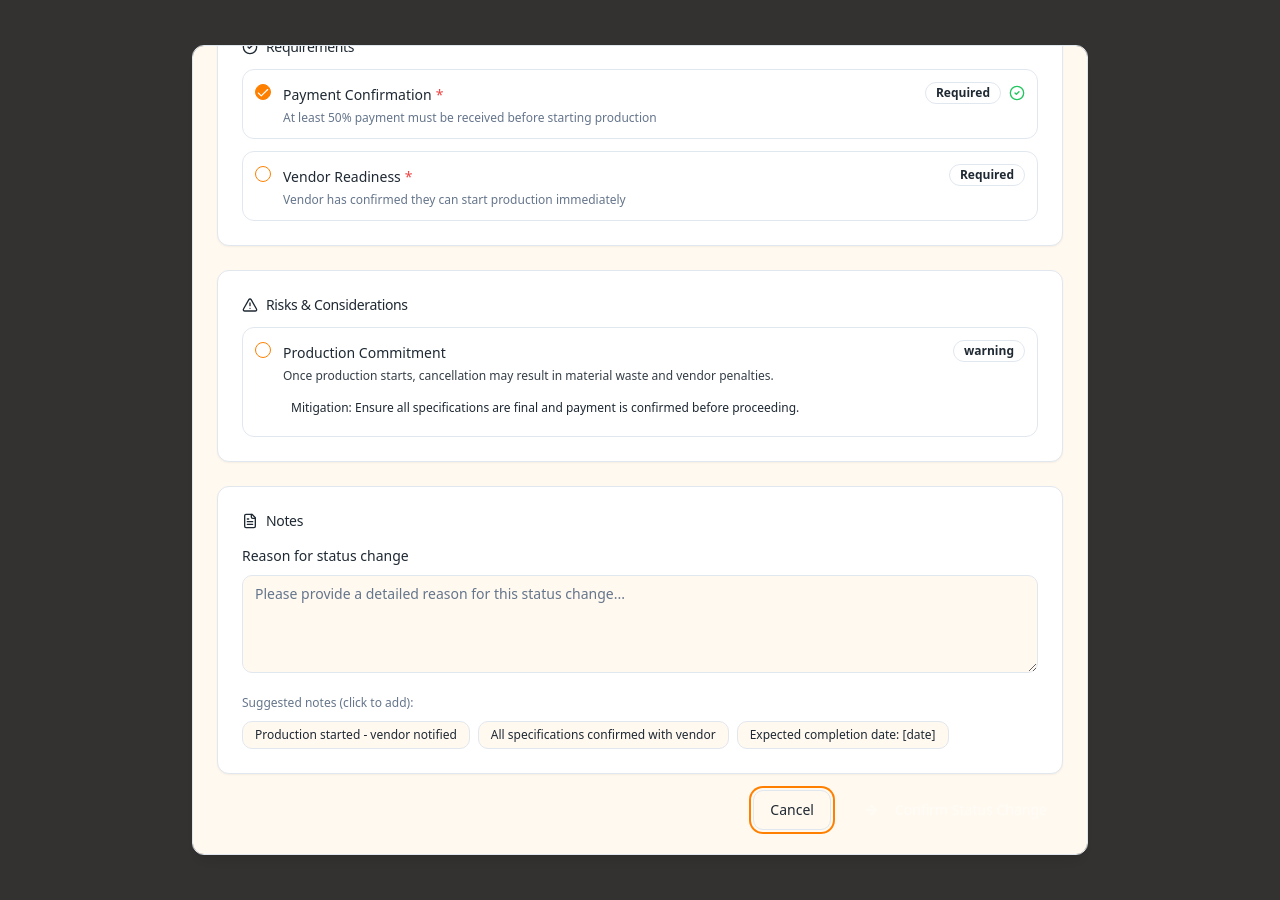
it: StatusChangeConfirmationDialog › adds suggested note to textarea when clicked
(page scrolled)
Step 1. Click the button "Production started - vendor notified" → (356, 735), box top-left (242, 721), bottom-right (470, 749)
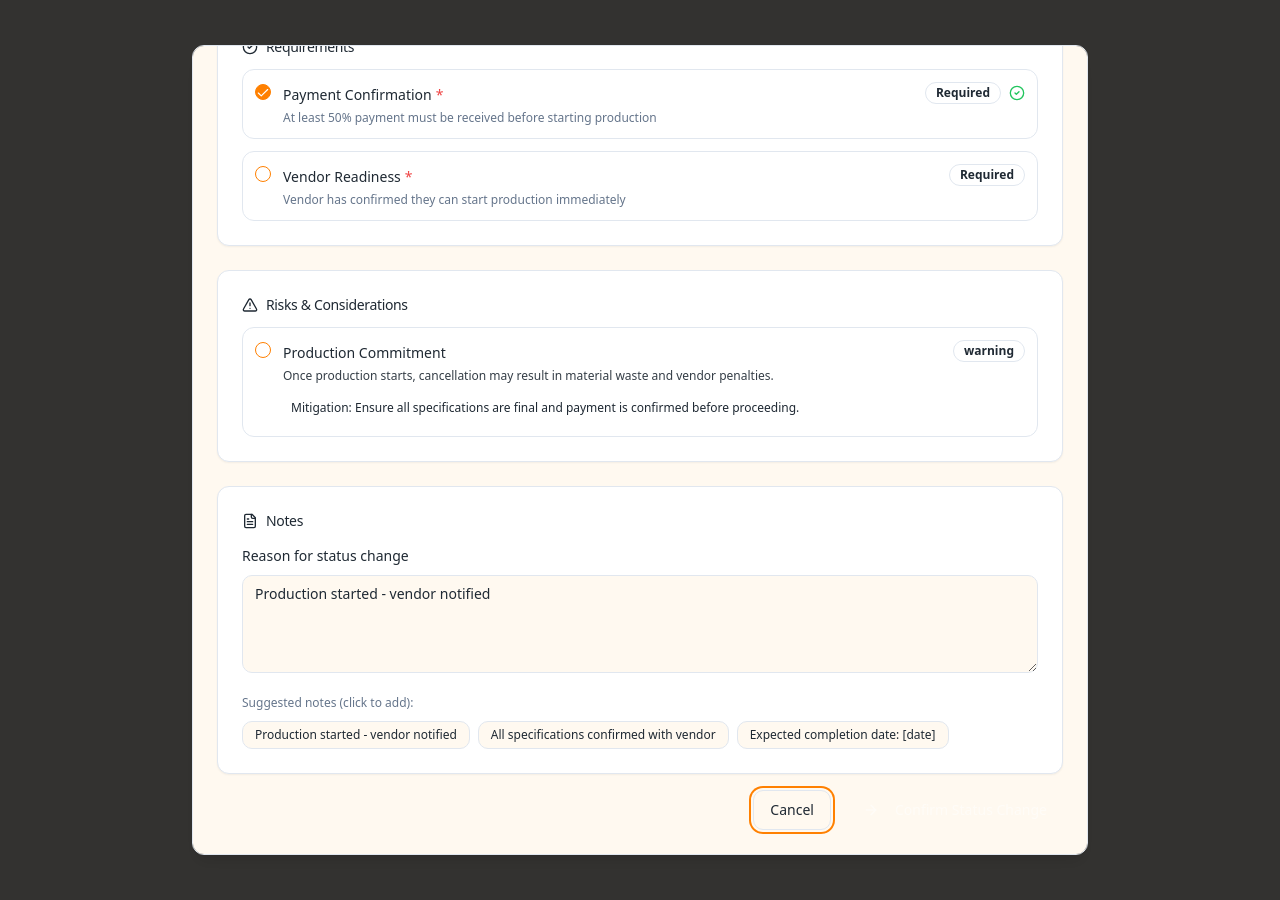
Expected: the text box with placeholder "Please provide a detailed reason for this status change..." holds "Production started - vendor notified", top-left (242, 575), bottom-right (1038, 673)
